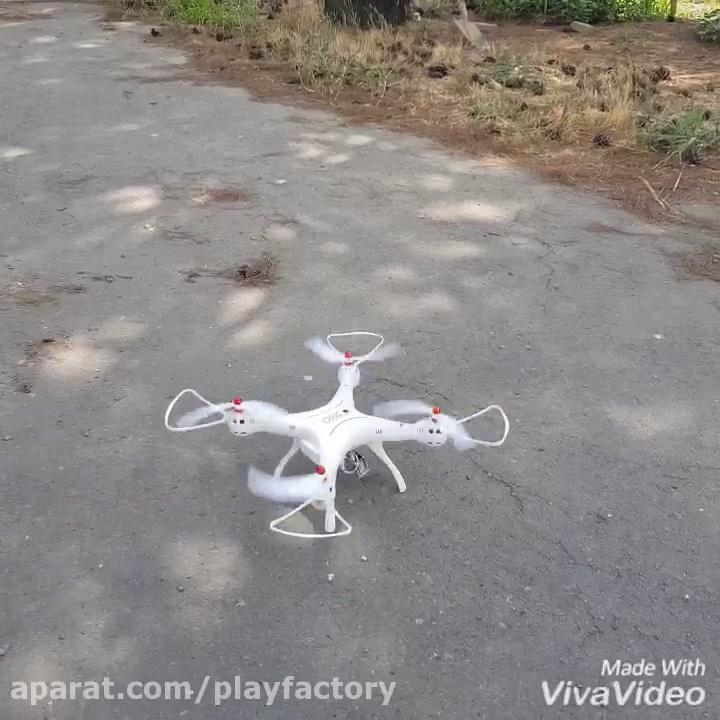drone: (157, 322, 514, 542)
